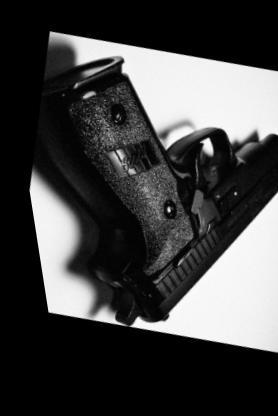pistol: (5, 25, 275, 376)
